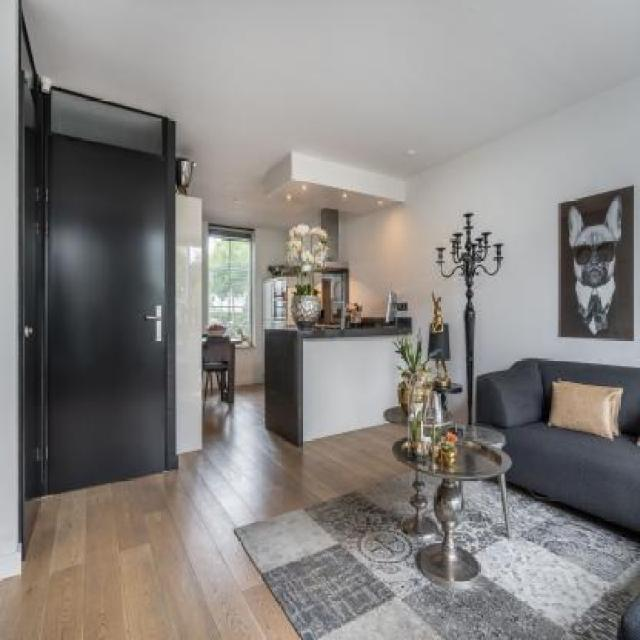floor: (0, 386, 640, 640)
